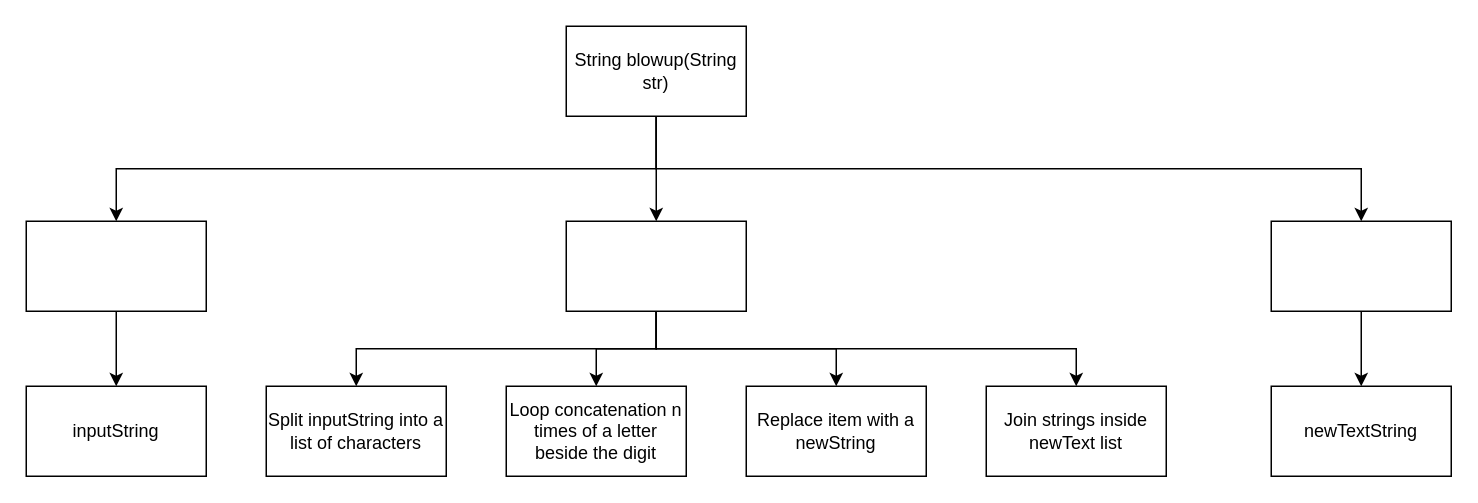
The diagram is 1478 pixels wide and 503 high, and some of its shapes have lost their labels. The shapes that lost their labels are listed below. From the top down, each one's centre as x and y in pixels, then its label:
At point 115,265: "Input".
At point 655,265: "Process".
At point 1360,265: "Output".
